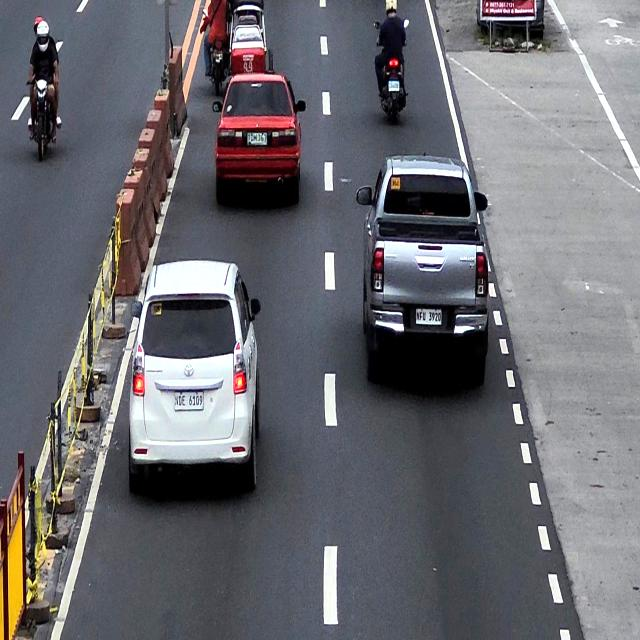Car: (127, 257, 261, 498), (357, 153, 490, 387), (212, 73, 308, 207)
License-Plate: (173, 392, 204, 412), (415, 308, 442, 327), (246, 132, 267, 148), (388, 79, 400, 92)
Motorcycle: (376, 17, 410, 127)
Tricycle: (207, 0, 276, 94)
